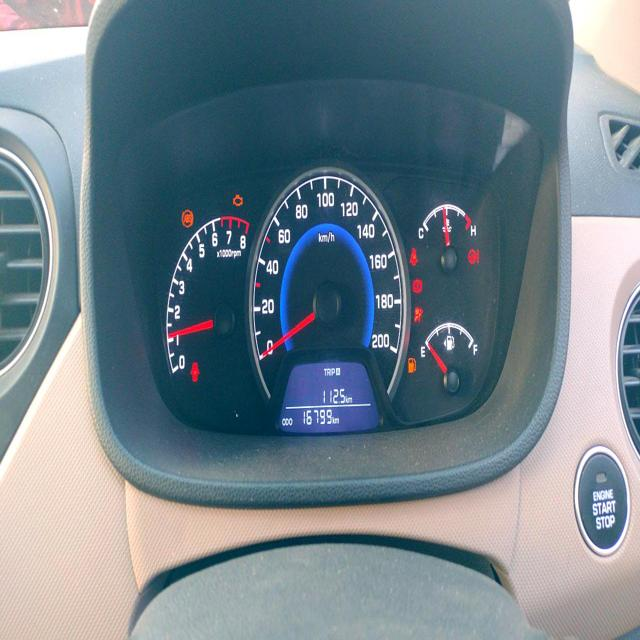odometer: (299, 405, 335, 432)
